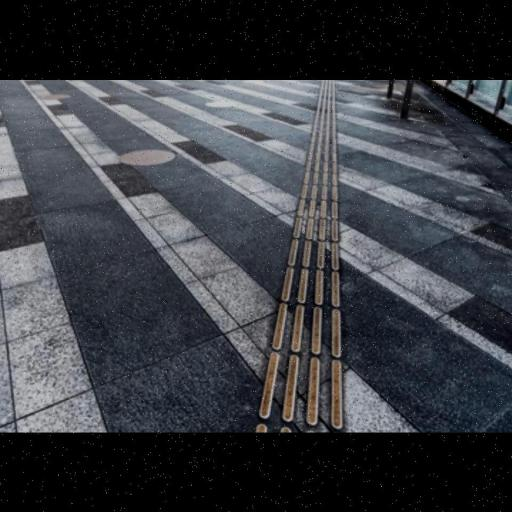line: (260, 352, 344, 430), (273, 302, 342, 359), (283, 266, 340, 306)
